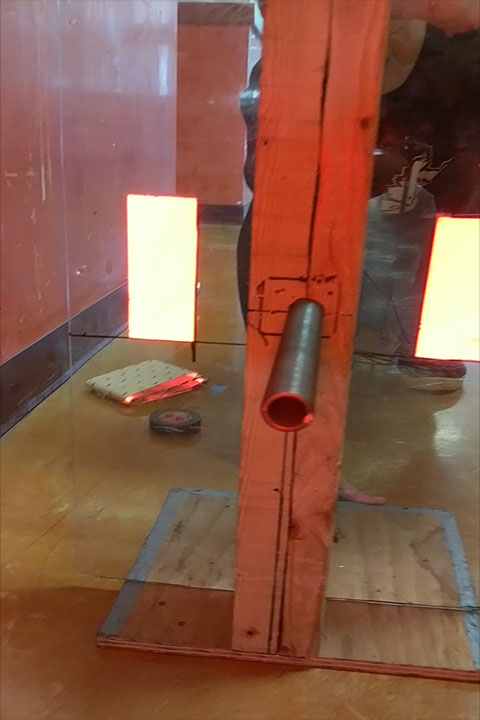gear: (125, 193, 198, 345), (413, 215, 480, 362)
